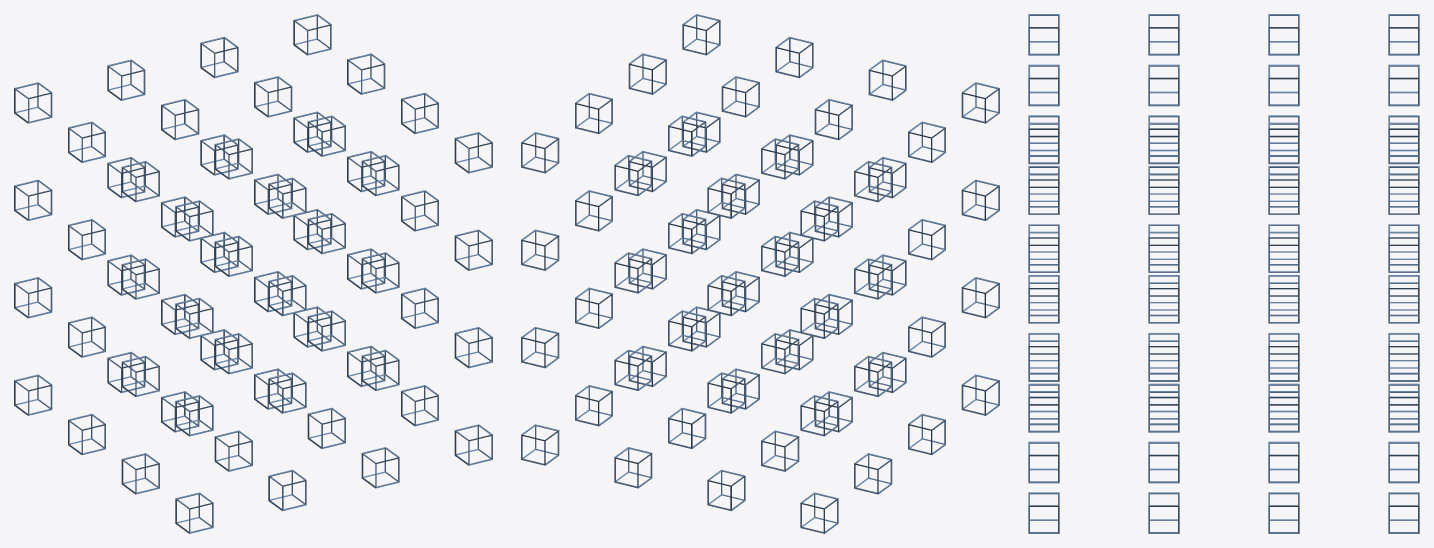
Rendered from cubes_wire.glb.
3 views of the same model, side by side, from view 1: azimuth 30°, elevation 25°; view 2: azimuth 150°, elevation 25°; view 3: azimuth 270°, elevation 25° (orthographic). The views are drawn at different scales.
Visible parts, largest first — view 1: no part large enough to name; view 2: no part large enough to name; view 3: cubes_not animated.076, cubes_not animated.092, cubes_not animated.108, cubes_not animated.124, cubes_not animated.206, cubes_not animated.222, cubes_not animated.238, cubes_not animated.254, cubes_not animated.458, cubes_not animated.474, cubes_not animated.490, cubes_not animated.506.
Part boxes in pixels (x1,y1,x2,y2): cubes_not animated.076: [1028, 441, 1059, 483]; cubes_not animated.092: [1148, 441, 1179, 483]; cubes_not animated.108: [1268, 441, 1299, 483]; cubes_not animated.124: [1388, 441, 1419, 483]; cubes_not animated.206: [1028, 383, 1059, 425]; cubes_not animated.222: [1148, 383, 1179, 425]; cubes_not animated.238: [1268, 383, 1299, 425]; cubes_not animated.254: [1388, 383, 1419, 425]; cubes_not animated.458: [1028, 64, 1059, 106]; cubes_not animated.474: [1148, 64, 1179, 106]; cubes_not animated.490: [1268, 64, 1299, 106]; cubes_not animated.506: [1388, 64, 1419, 106].
Bounding box in the file's own units: 1.74 × 1.74 × 1.74.
